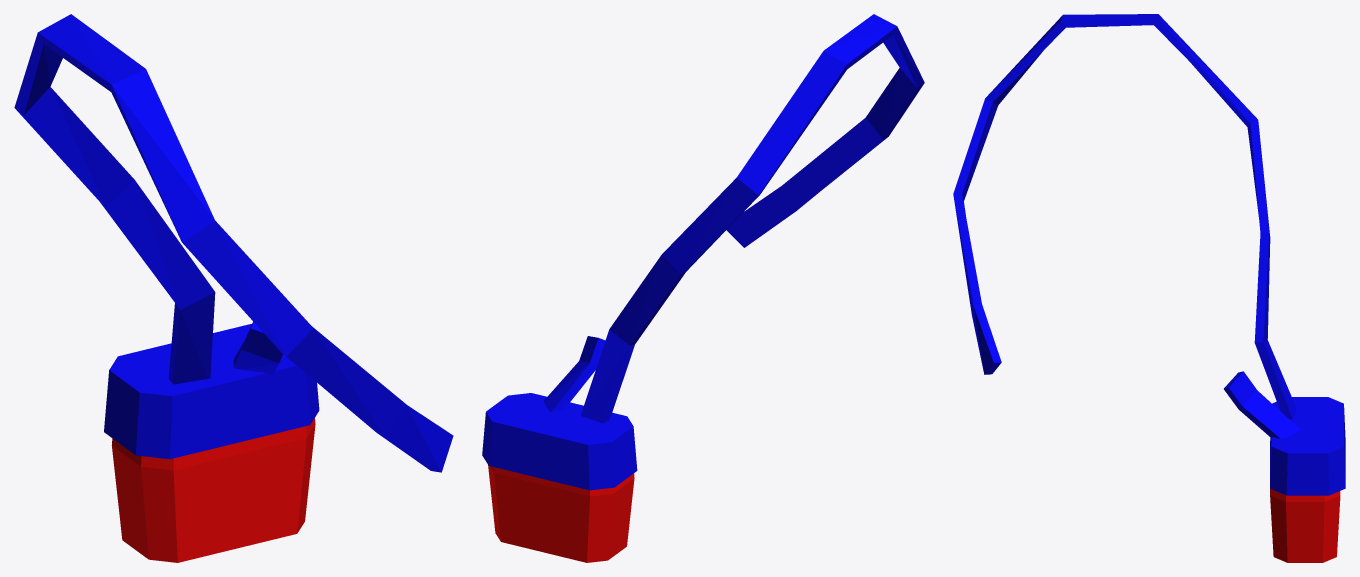
File: bag_crossbody_01.glb
3 renders of one model, left to right at view 1: azimuth 30°, elevation 25°; view 2: azimuth 150°, elevation 25°; view 3: azimuth 270°, elevation 25°, orthographic. The views are drawn at different scales.
Parts seen in each view (by area): view 1: bag_crossbody_01; view 2: bag_crossbody_01; view 3: bag_crossbody_01.
Boxes of the visible parts, box(x1,y1,x2,y2) form: bag_crossbody_01: box(14, 14, 453, 562); bag_crossbody_01: box(482, 14, 924, 562); bag_crossbody_01: box(953, 14, 1345, 562).
Bounding box in the file's own units: 0.3294 × 0.5492 × 0.4459.
1 material, 1 textured.
